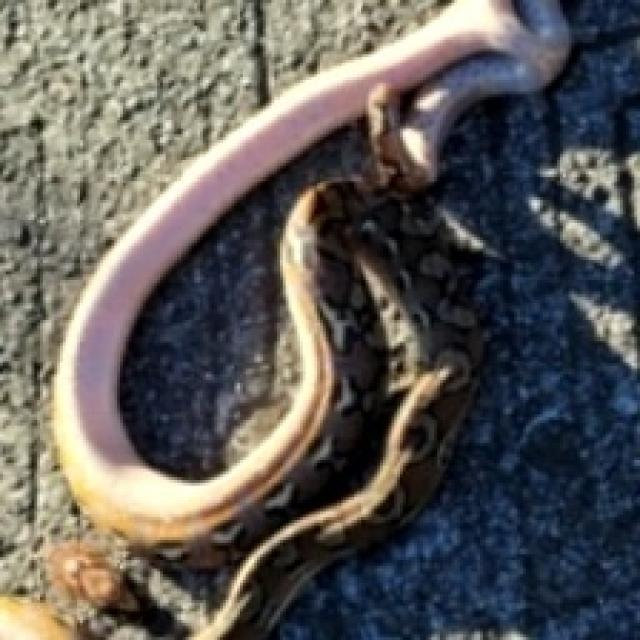reticulated python: (54, 0, 571, 640)
